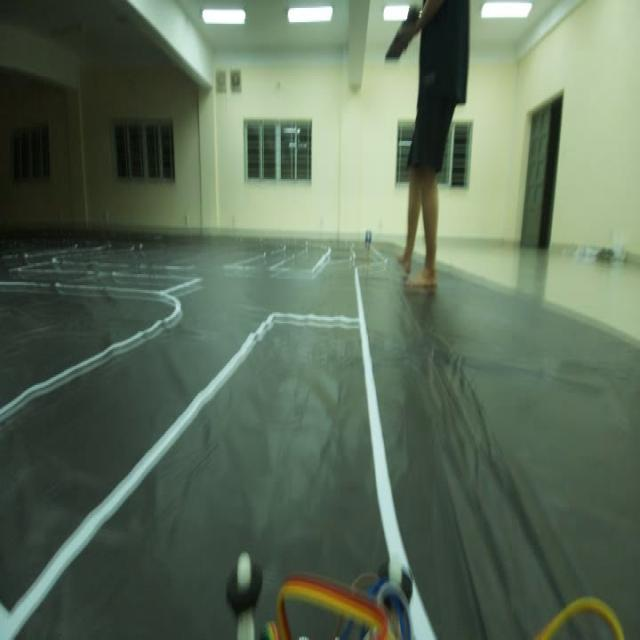onewayroad: (364, 225, 374, 250)
